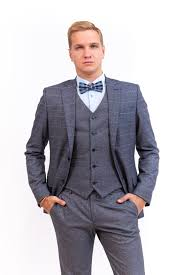bow: (77, 80, 105, 95)
